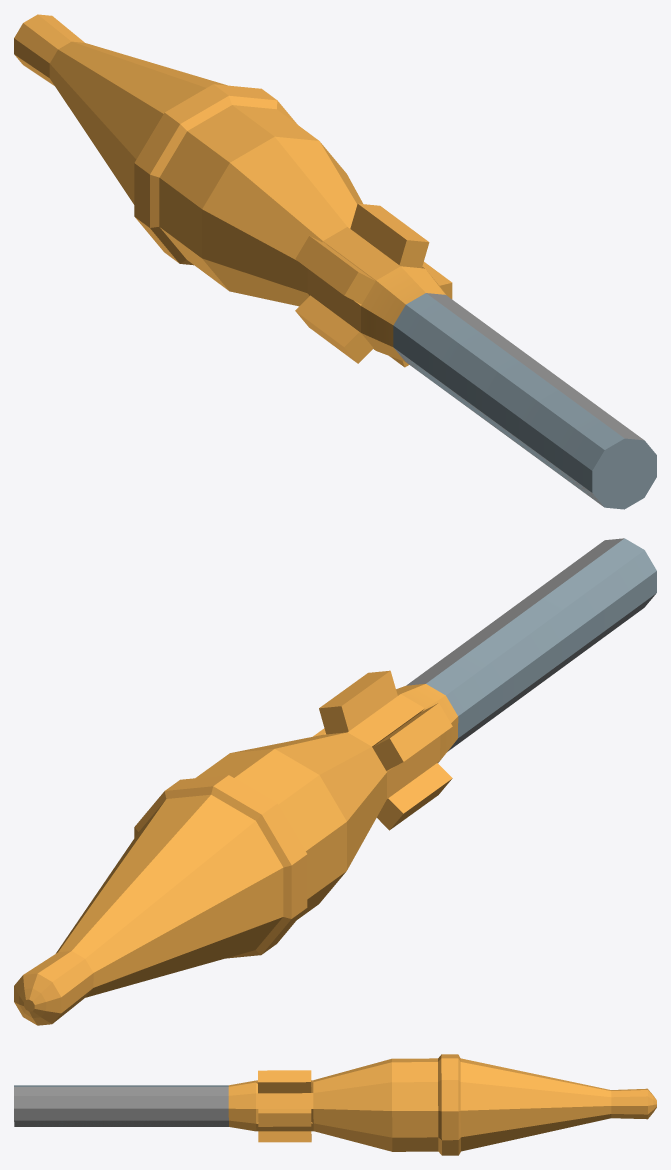
File: RocketBullet.fbx
3 views of the same model, one above another, from view 1: azimuth 30°, elevation 25°; view 2: azimuth 150°, elevation 25°; view 3: azimuth 270°, elevation 25° (orthographic). The views are drawn at different scales.
Visible parts, largest first — view 1: BazookaBullet; view 2: BazookaBullet; view 3: BazookaBullet.
Boxes of the visible parts, x1,y1,x2,y2 form: BazookaBullet: (14,14,656,509); BazookaBullet: (14,538,656,1025); BazookaBullet: (14,1054,656,1155).
Bounding box in the file's own units: 83.17 × 87.53 × 545.
